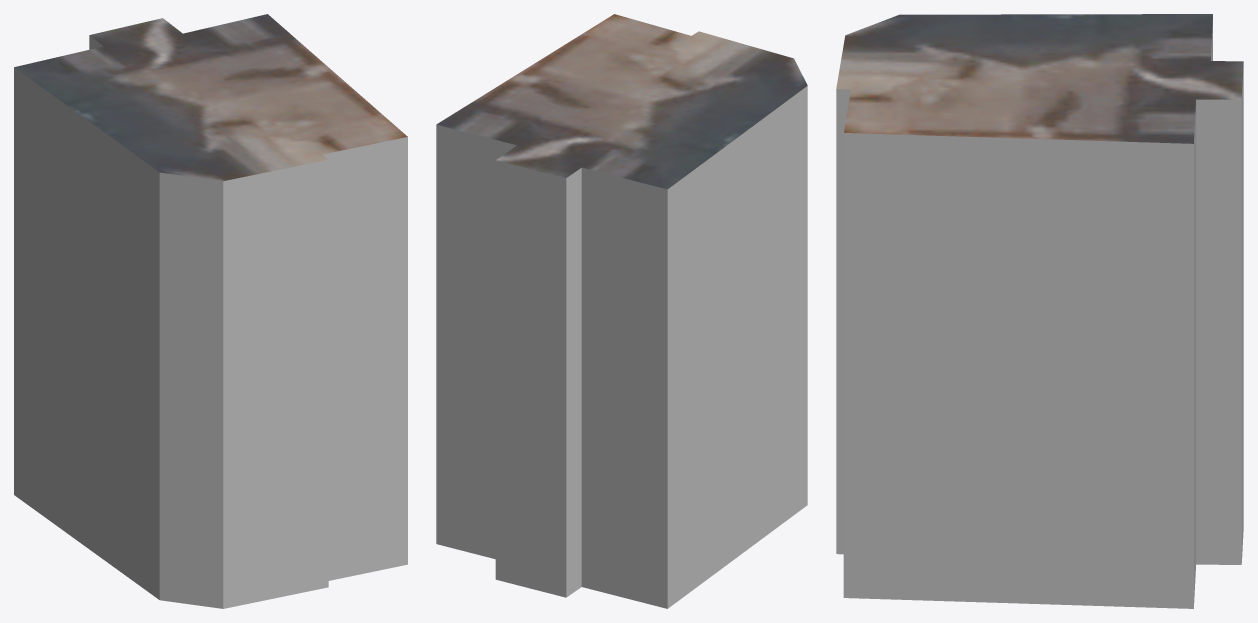
File: DEBW_0010007Txgi.gltf
3 renders of one model, left to right at view 1: azimuth 30°, elevation 25°; view 2: azimuth 150°, elevation 25°; view 3: azimuth 270°, elevation 25°, orthographic. The views are drawn at different scales.
Visible parts, largest first — view 1: Z_UP; view 2: Z_UP; view 3: Z_UP.
Part boxes in pixels (left/top/right/bottom): Z_UP: left=14, top=14, right=407, bottom=608; Z_UP: left=436, top=14, right=807, bottom=608; Z_UP: left=836, top=14, right=1243, bottom=608.
Size of the model in its own units: 10.53 by 17.58 by 13.96.
Materials: 2 (1 with a texture image).
